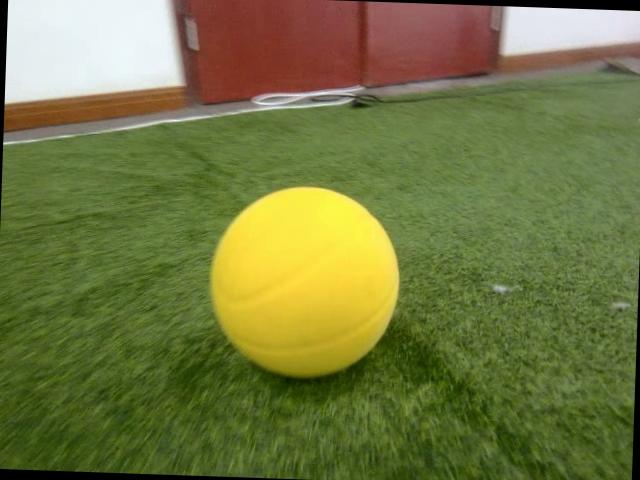yellow_ball: (205, 183, 406, 383)
